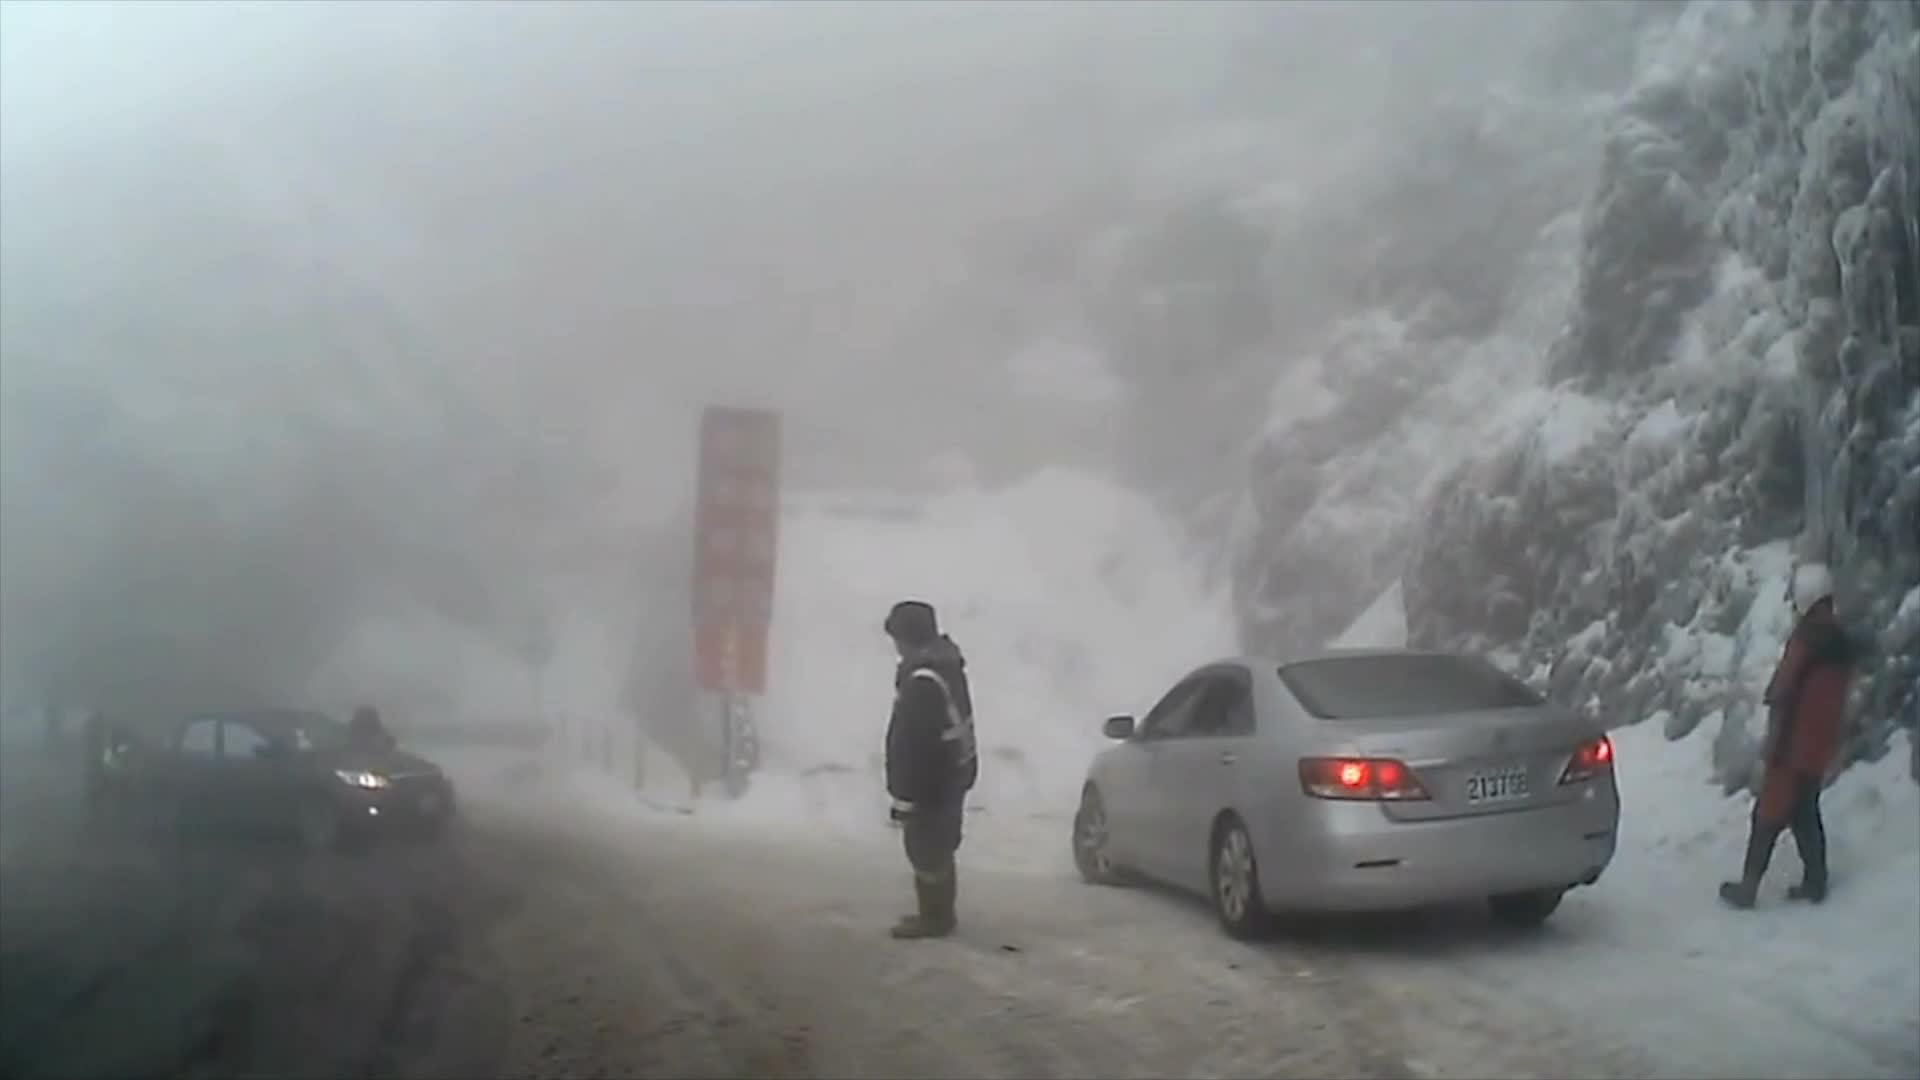pedestrian: (1716, 563, 1853, 913), (883, 600, 977, 944)
vehicle: (1070, 644, 1618, 940), (127, 705, 450, 859)
